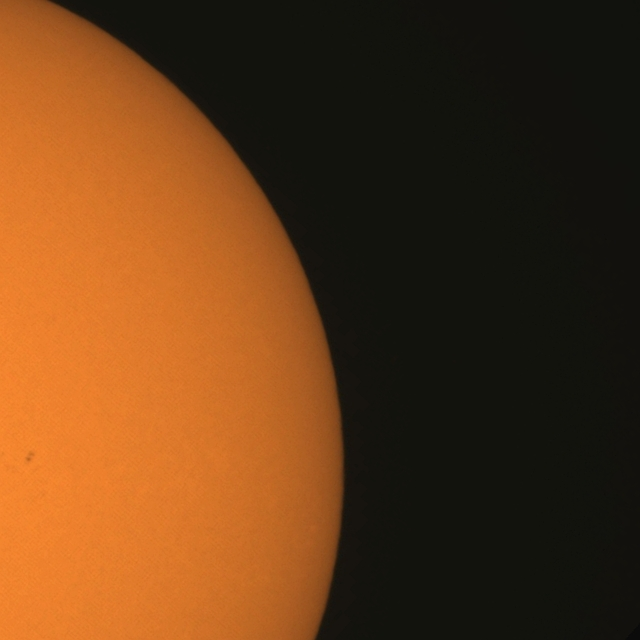sunspot: (24, 451, 36, 463)
